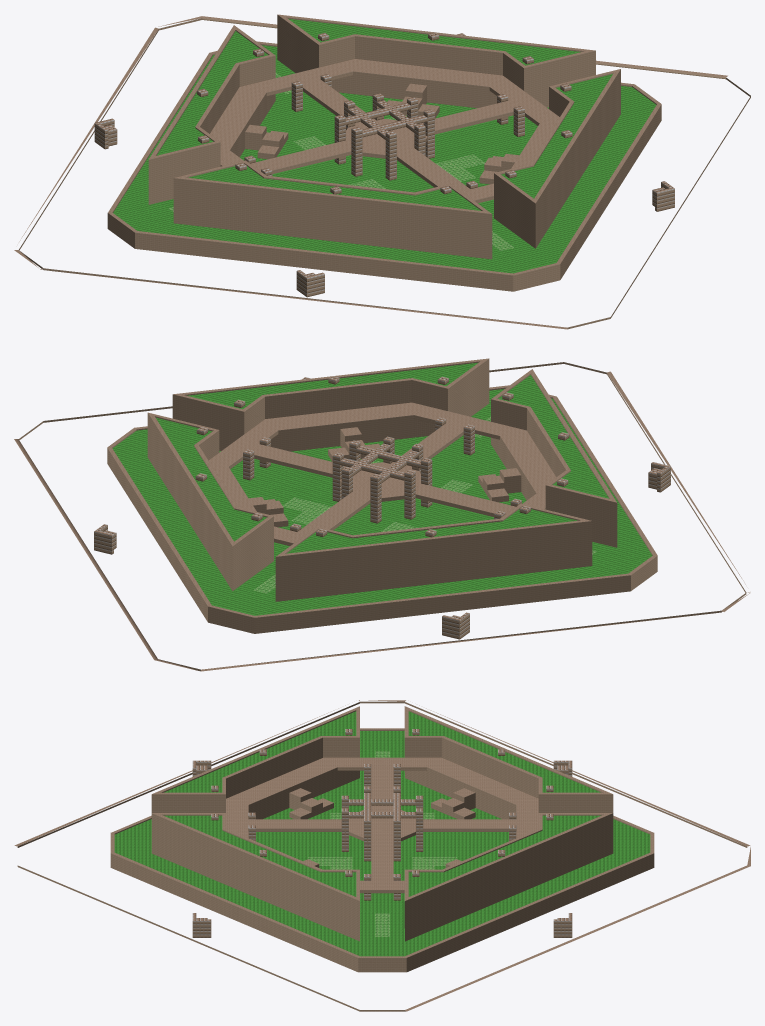
Rendered from M_AirborneTemple.fbx.
3 views of the same model, one above another, from view 1: azimuth 30°, elevation 25°; view 2: azimuth 150°, elevation 25°; view 3: azimuth 270°, elevation 25° (orthographic). The views are drawn at different scales.
Parts seen in each view (by area): view 1: MAP98; view 2: MAP98; view 3: MAP98.
Part boxes in pixels (x1,y1,x2,y2): MAP98: (14,14,750,329); MAP98: (14,358,750,671); MAP98: (14,700,750,1011).
Bounding box in the file's own units: 19800 × 1669 × 19800.
